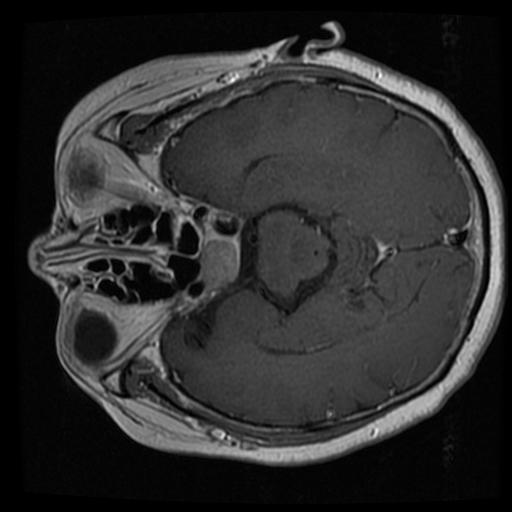pituitary tumour: (198, 234, 239, 292)
